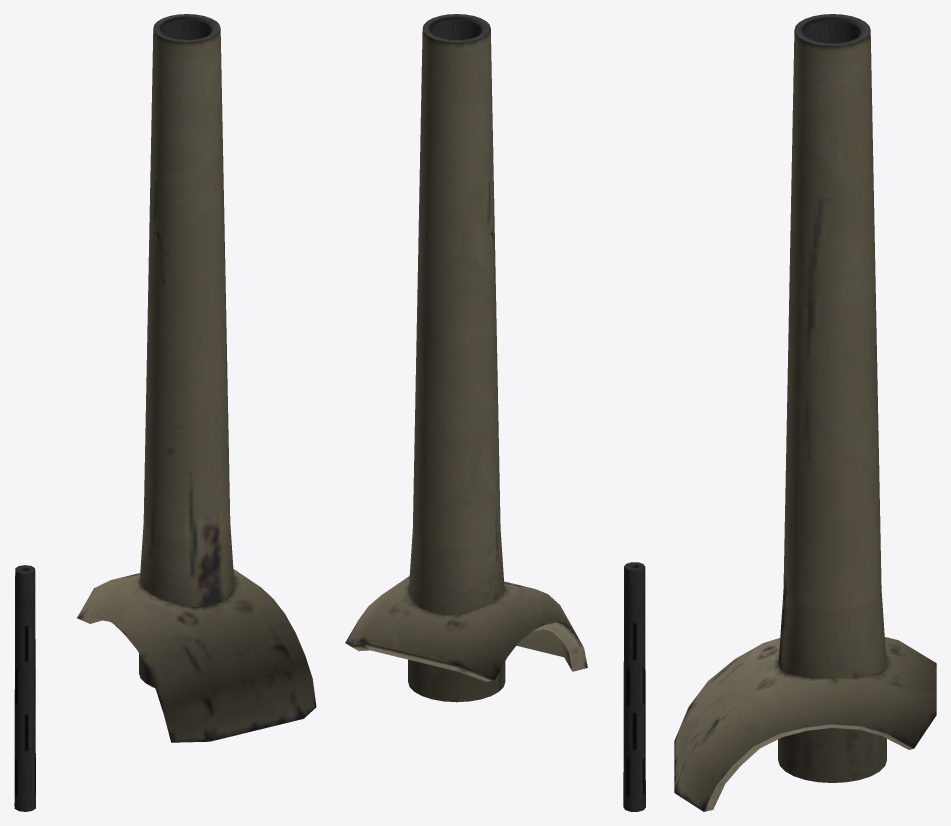
The model's file is Gun_08.glb.
The picture shows the model from 3 angles, left to right: view 1: azimuth 30°, elevation 25°; view 2: azimuth 150°, elevation 25°; view 3: azimuth 270°, elevation 25°; orthographic projection. The views are drawn at different scales.
Parts seen in each view (by area): view 1: set_0_group_0; view 2: set_0_group_0; view 3: set_0_group_0.
Part boxes in pixels (x1,y1,x2,y2): set_0_group_0: (14, 14, 316, 811); set_0_group_0: (345, 14, 645, 811); set_0_group_0: (674, 14, 936, 811).
Size of the model in its own units: 0.6142 by 1.7 by 0.4878.
1 material, 1 textured.
